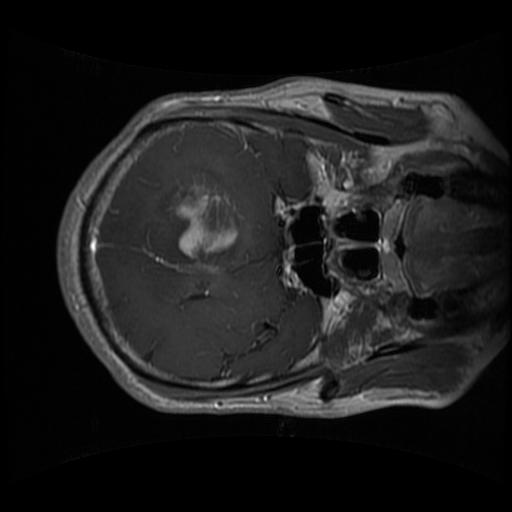glioma: (161, 180, 240, 266)
